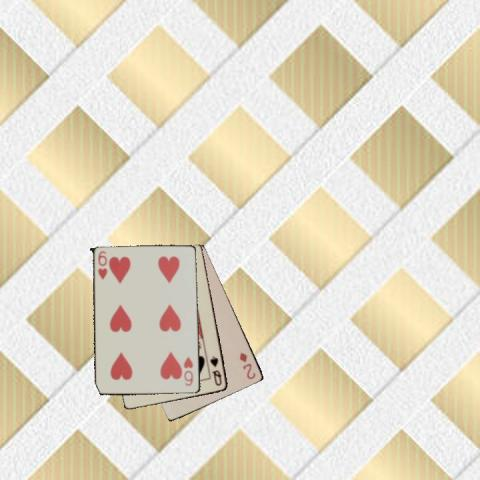2d: (237, 349, 257, 381)
6h: (181, 354, 195, 387), (96, 248, 108, 281)
Qs: (208, 354, 224, 388)
